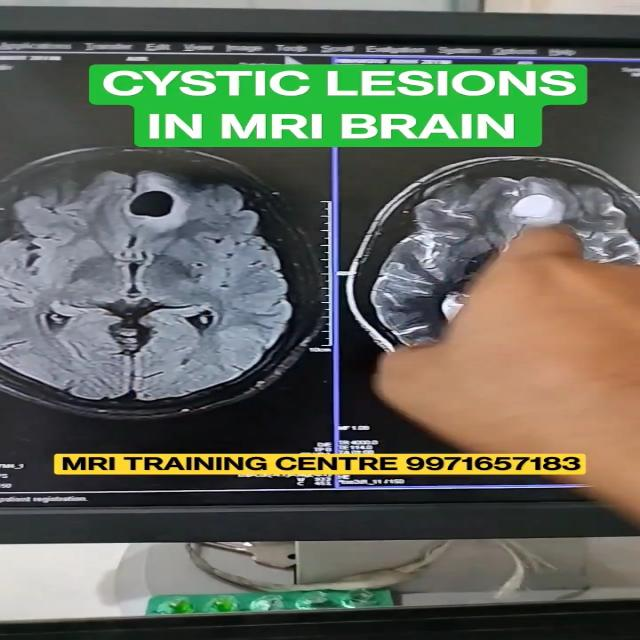tumor: (119, 184, 223, 235), (502, 192, 592, 234)
